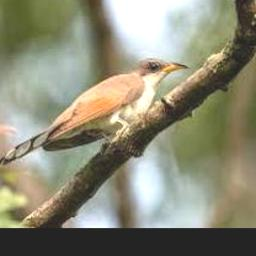Cuckoo: (0, 58, 190, 165)
